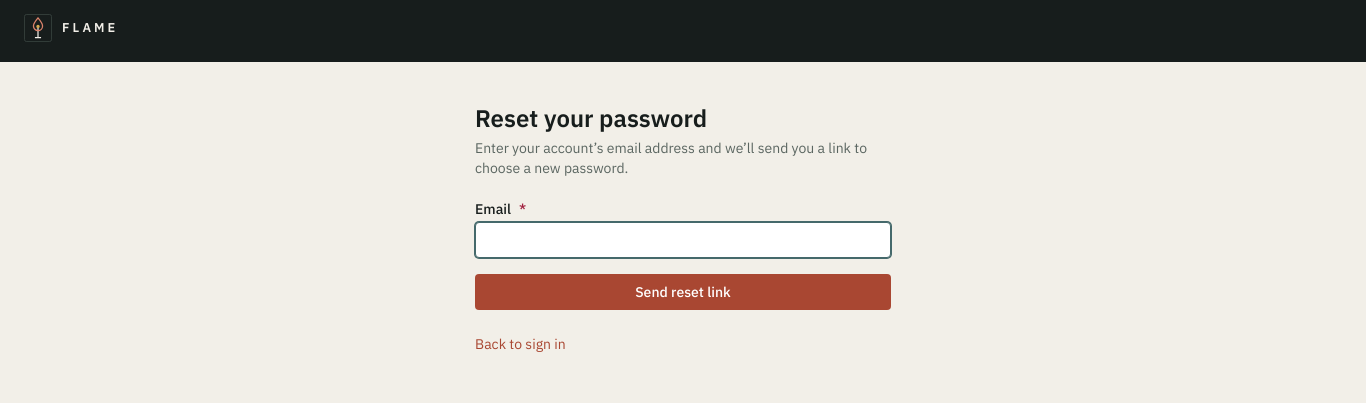
Test: forgot password › asks for a link and gives the same neutral answer for any email
Click the button "Send reset link". click: (683, 292)
box: left=475, top=274, right=891, bottom=310
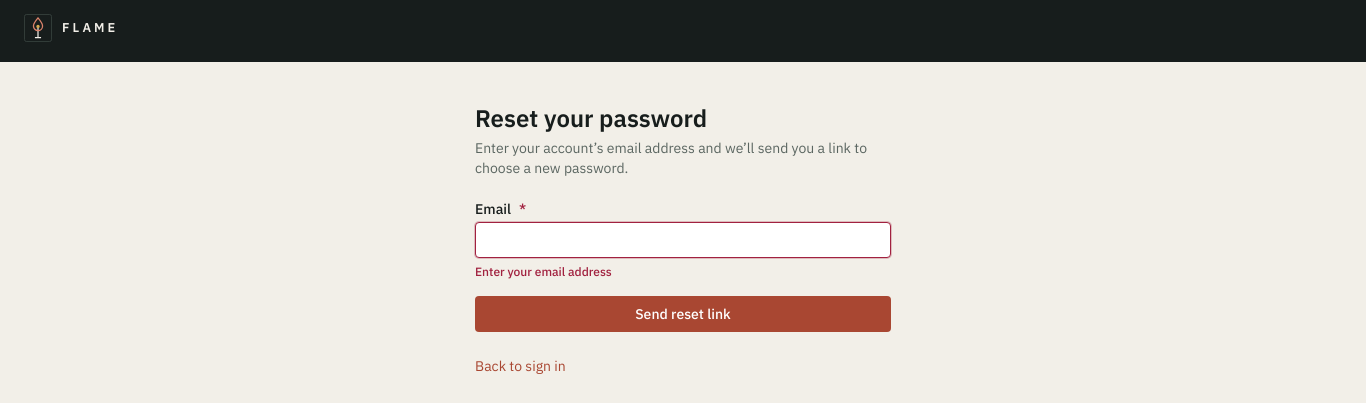
Check: the text "Enter your email address" is shown, box left=475, top=264, right=612, bottom=279
Type "ada@example.com" into the field labelled "Email *". click: (683, 240)
box: left=475, top=222, right=891, bottom=258
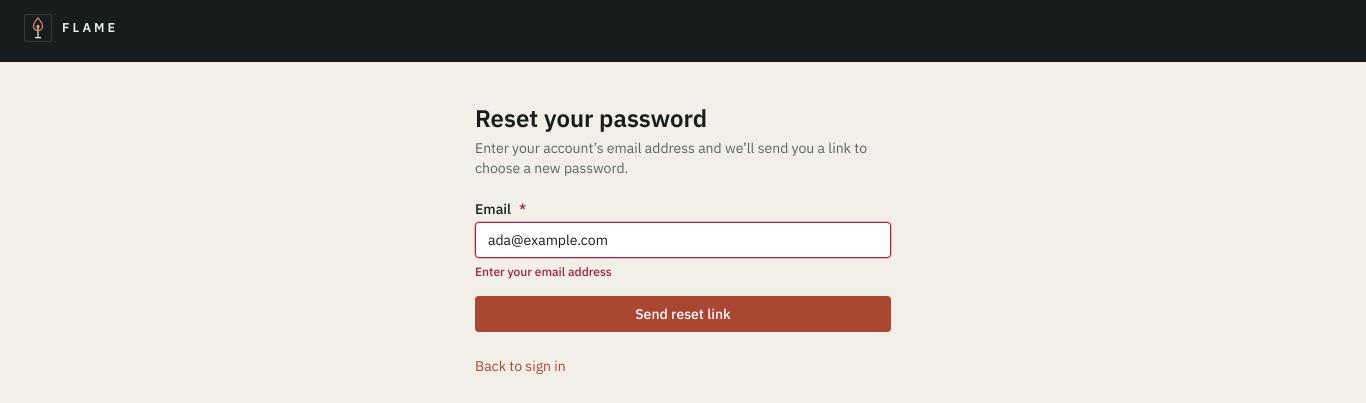
Click the button "Send reset link". click: (683, 314)
box: left=475, top=296, right=891, bottom=332
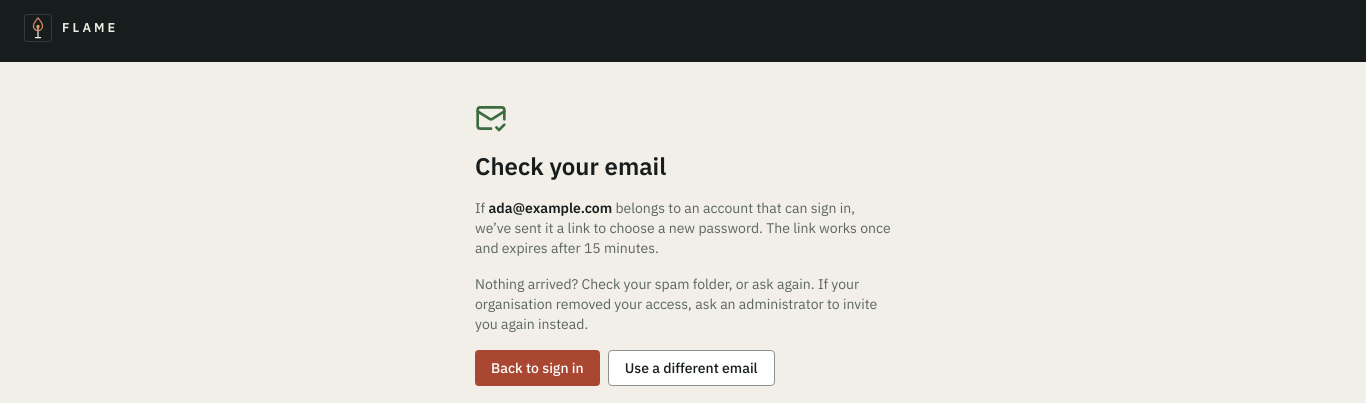
Check: the text "belongs to an account that can sign in" is shown, box left=475, top=199, right=891, bottom=257
Check: the text "expires after 15 minutes" is shown, box left=475, top=198, right=891, bottom=258
